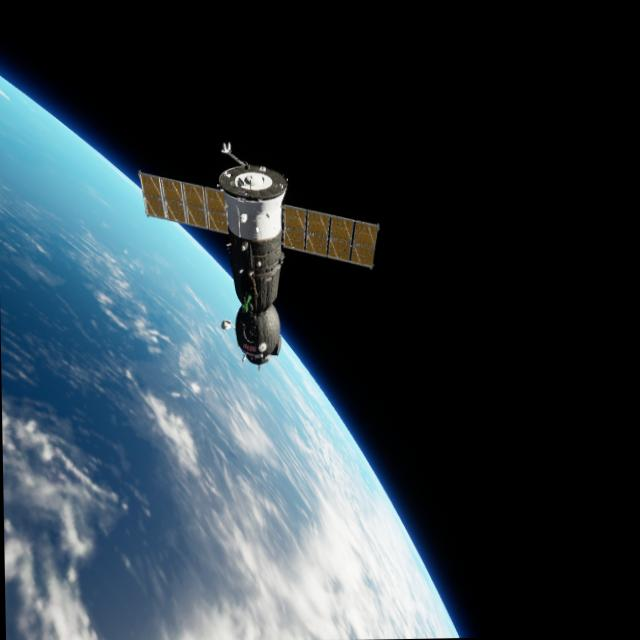Satellites revolving around earth: (136, 136, 384, 373)
